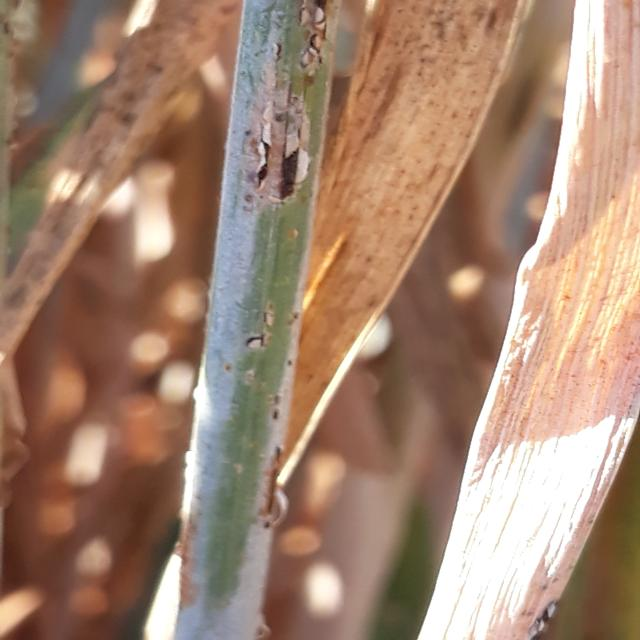black_stem_rust: (145, 0, 624, 640), (0, 0, 240, 392)
